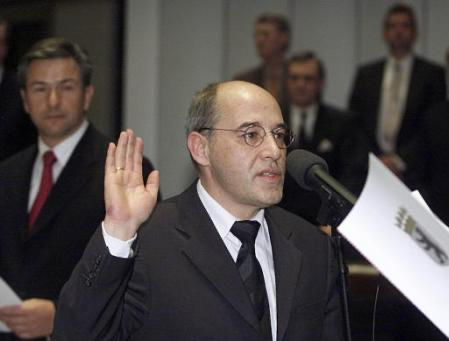Face: (211, 111, 297, 212), (24, 64, 87, 139), (283, 59, 325, 110), (250, 18, 292, 69), (381, 12, 418, 59)
